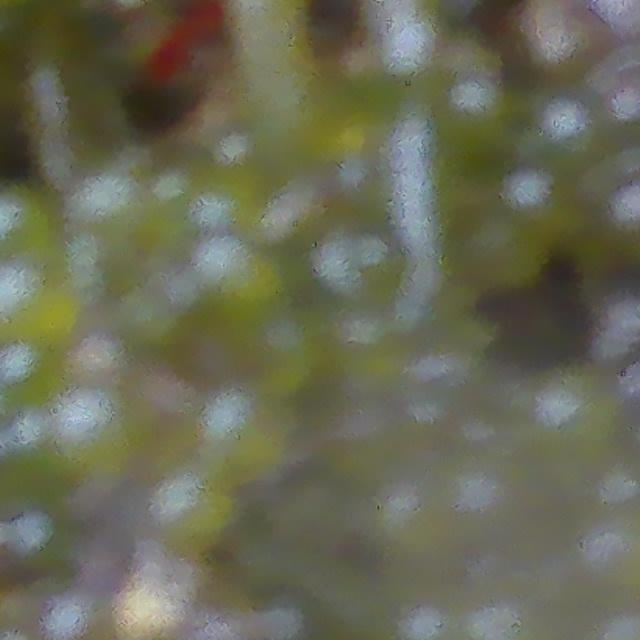SeaGrape: (157, 467, 236, 550), (0, 261, 75, 348), (56, 390, 136, 467), (219, 385, 289, 467), (198, 236, 268, 315), (557, 388, 612, 458), (78, 167, 133, 237), (0, 190, 43, 263)
